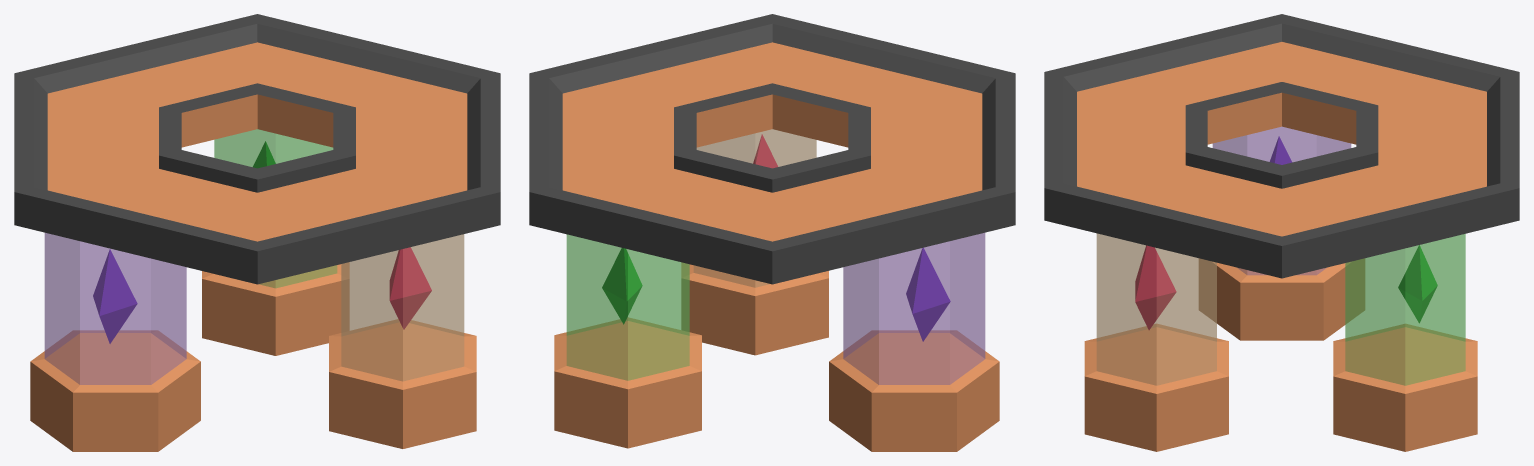
Rendered from Pests-Incubator.fbx.
3 renders of one model, left to right at view 1: azimuth 30°, elevation 25°; view 2: azimuth 150°, elevation 25°; view 3: azimuth 270°, elevation 25°, orthographic. The views are drawn at different scales.
Visible parts, largest first — view 1: Pests-Incubator; view 2: Pests-Incubator; view 3: Pests-Incubator.
Part boxes in pixels (box(x1,y1,x2,y2)): Pests-Incubator: box(14, 14, 500, 451); Pests-Incubator: box(529, 14, 1015, 451); Pests-Incubator: box(1044, 14, 1519, 451).
Bounding box in the file's own units: 1.07 × 0.9297 × 0.5373.
